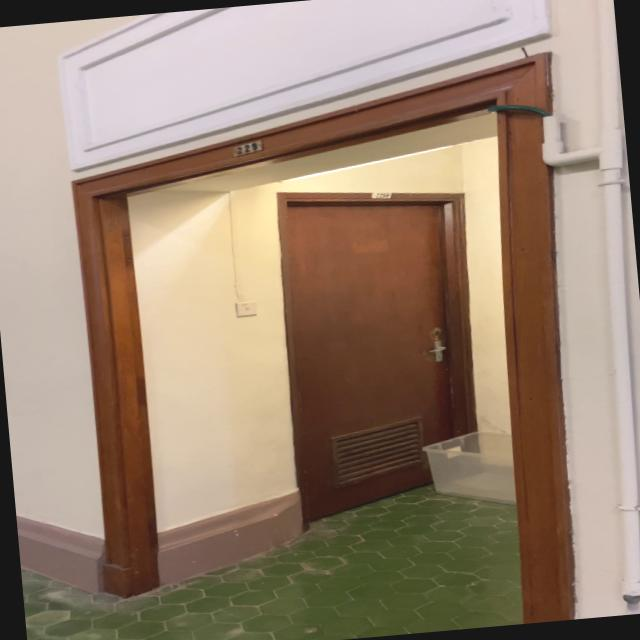room229: (229, 138, 265, 158)
